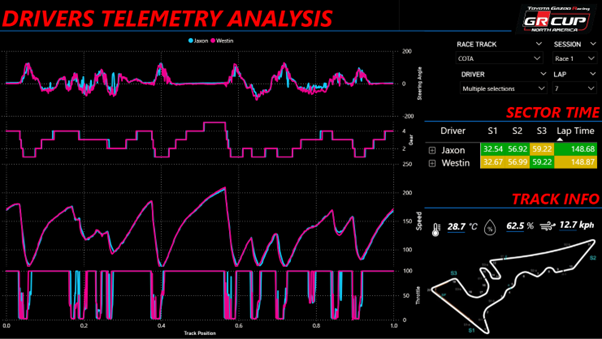

The page's visual inventory and layout, read from the dashboard file:
{"tool":"powerbi","page":{"name":"Driver Analysis","canvas":[1280,720],"ordinal":2},"visuals":[{"type":"image","box":[1087.8,0,192.2,82.2],"z":0},{"type":"textbox","box":[0,0,850.1,76.6],"z":1000},{"type":"shape","box":[0,56.9,1087.7,19.2],"z":2000},{"type":"lineChart","fields":{"Category":["v_pos_telemetry.track_position_value"],"Series":["t_driver_summary.name"],"Y":["Avg(v_pos_telemetry.steering_angle)"]},"box":[0,67,903,205],"z":3000},{"type":"lineChart","fields":{"Category":["v_pos_telemetry.track_position_value"],"Series":["t_driver_summary.name"],"Y":["Sum(v_pos_telemetry.gear)"]},"box":[0,252.1,885.3,107.9],"z":4000},{"type":"lineChart","fields":{"Y":["Sum(v_pos_telemetry.speed)"],"Category":["v_pos_telemetry.track_position_value"],"Series":["t_driver_summary.name"]},"box":[0,341,903,276],"z":5000},{"type":"lineChart","fields":{"Category":["v_pos_telemetry.track_position_value"],"Y":["Sum(v_pos_telemetry.ath)"],"Series":["t_driver_summary.name"]},"box":[0,567.9,899.5,152.1],"z":6000},{"type":"pivotTable","fields":{"Values":["Sum(t_sector_data.s1_seconds)","Sum(t_sector_data.s2_seconds)","Sum(t_sector_data.s3_seconds)","Sum(t_sector_data.lap_time)"],"Rows":["t_driver_summary.name","t_driver_summary.driver_image_url"]},"box":[899.6,259.1,380.5,134.3],"z":7000},{"type":"slicer","fields":{"Values":["t_event_info.meta_event_name"]},"box":[959,82,206,63],"z":8000},{"type":"slicer","fields":{"Values":["t_event_info.meta_session_name"]},"box":[1165,82,115,63],"z":9000},{"type":"slicer","fields":{"Values":["t_driver_summary.name"]},"box":[968.8,145.4,206.1,62.4],"z":10000},{"type":"slicer","fields":{"Values":["t_sector_data.lap_number"]},"box":[1164.7,145.4,115.4,62.4],"z":11000},{"type":"textbox","box":[928.1,215.6,351.9,43.1],"z":12000},{"type":"shape","box":[903.1,249.3,376.9,19],"z":13000},{"type":"imagepro72F4F4C66B5C47EDB72C8CA5F4BFCD1A","fields":{"imageUrl":["ImageIndex.Image"]},"box":[903.1,500.3,376.9,219.9],"z":14000},{"type":"image","box":[909.1,469.2,38,39.7],"z":15000},{"type":"image","box":[1012.6,456.3,59.5,55.2],"z":16000},{"type":"image","box":[1135.1,453.7,59.5,55.2],"z":17000},{"type":"textbox","box":[1072.1,462.3,72.5,49.2],"z":18000},{"type":"textbox","box":[947.1,464,75.9,49.2],"z":19000},{"type":"textbox","box":[1184.3,459.7,95.7,49.2],"z":20000},{"type":"textbox","box":[928.1,399,351.9,43.1],"z":21000},{"type":"shape","box":[903.1,432.6,376.9,19],"z":22000}]}

Visuals, with their boxes in screenshot pixels (x1, y1, x2, y2), scaled from the page's 1280x720 canvas onto the 602x339 screenshot:
image: [512, 0, 601, 39]
textbox: [0, 0, 400, 36]
shape: [0, 27, 512, 36]
lineChart - v_pos_telemetry.track_position_value x t_driver_summary.name: [0, 32, 425, 128]
lineChart - v_pos_telemetry.track_position_value x t_driver_summary.name: [0, 119, 416, 170]
lineChart - Sum(v_pos_telemetry.speed) x v_pos_telemetry.track_position_value: [0, 161, 425, 291]
lineChart - v_pos_telemetry.track_position_value x Sum(v_pos_telemetry.ath): [0, 267, 423, 338]
pivotTable - Sum(t_sector_data.s1_seconds) x Sum(t_sector_data.s2_seconds): [423, 122, 601, 185]
slicer - t_event_info.meta_event_name: [451, 39, 548, 68]
slicer - t_event_info.meta_session_name: [548, 39, 601, 68]
slicer - t_driver_summary.name: [456, 68, 553, 98]
slicer - t_sector_data.lap_number: [548, 68, 601, 98]
textbox: [436, 102, 601, 122]
shape: [425, 117, 601, 126]
imagepro72F4F4C66B5C47EDB72C8CA5F4BFCD1A - ImageIndex.Image: [425, 236, 601, 338]
image: [428, 221, 445, 240]
image: [476, 215, 504, 241]
image: [534, 214, 562, 240]
textbox: [504, 218, 538, 241]
textbox: [445, 218, 481, 242]
textbox: [557, 216, 601, 240]
textbox: [436, 188, 601, 208]
shape: [425, 204, 601, 213]
